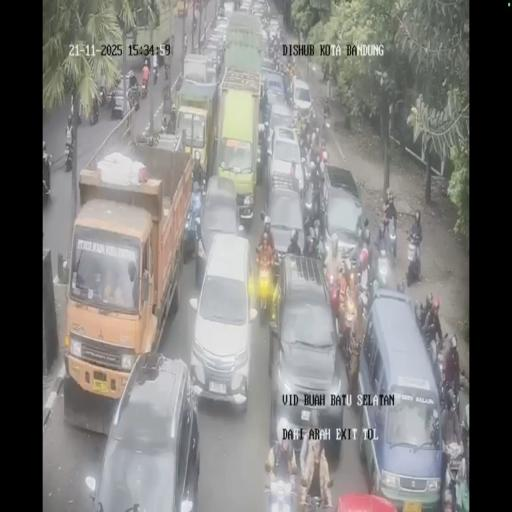car: (356, 289, 444, 505), (90, 352, 200, 508), (268, 258, 344, 455), (197, 172, 241, 282), (320, 168, 364, 269), (264, 190, 306, 272), (266, 128, 304, 204), (110, 71, 138, 119), (266, 101, 295, 138), (261, 70, 287, 108), (291, 77, 313, 121), (202, 42, 223, 76), (268, 19, 281, 46), (260, 55, 277, 75), (259, 27, 269, 56), (252, 0, 266, 18), (216, 4, 229, 20), (239, 0, 253, 13)
motorcycle: (441, 433, 467, 511), (264, 458, 297, 511), (254, 255, 276, 321), (405, 228, 423, 285), (308, 178, 326, 224), (384, 216, 398, 265), (69, 91, 82, 126), (42, 152, 52, 197), (88, 93, 99, 124), (64, 138, 74, 171), (284, 79, 294, 107), (96, 84, 106, 107), (322, 96, 330, 124), (140, 75, 148, 99), (152, 62, 158, 84), (164, 60, 170, 80), (192, 12, 197, 30), (184, 33, 188, 54)
truck: (173, 60, 218, 178), (221, 8, 263, 80), (128, 2, 172, 66), (175, 0, 188, 18)
